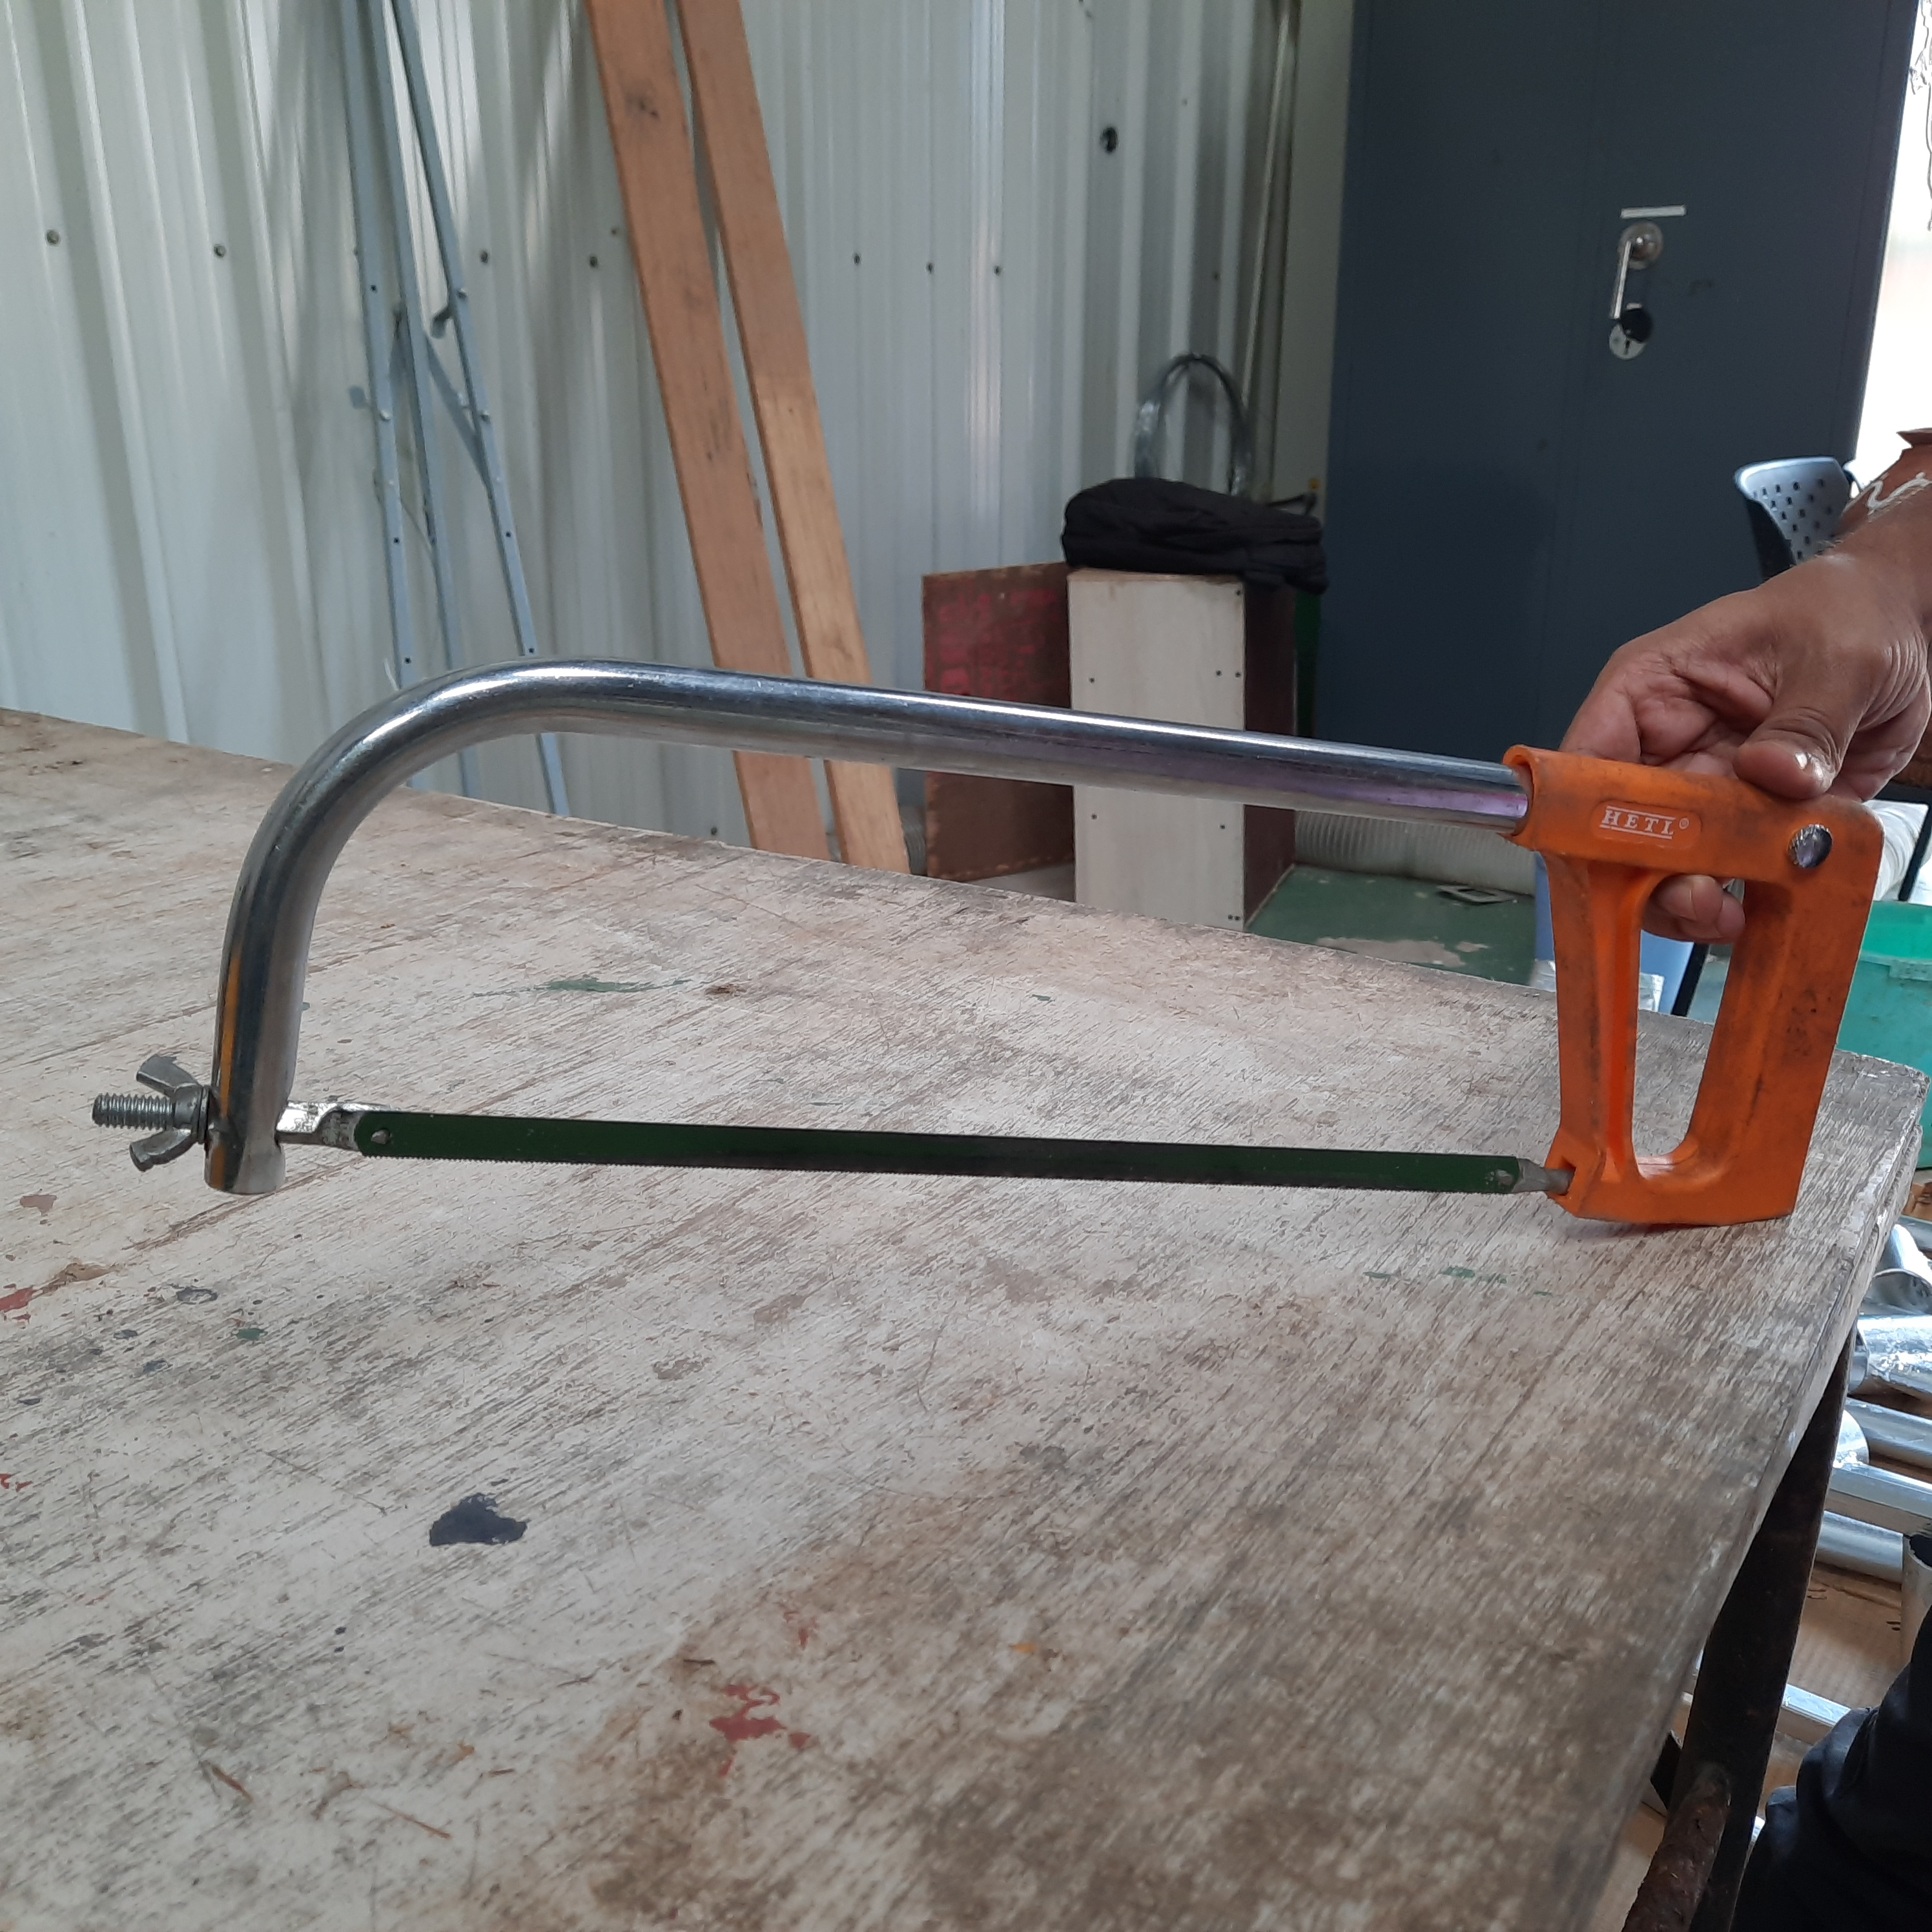Hexaframe: (76, 617, 1872, 1304)
